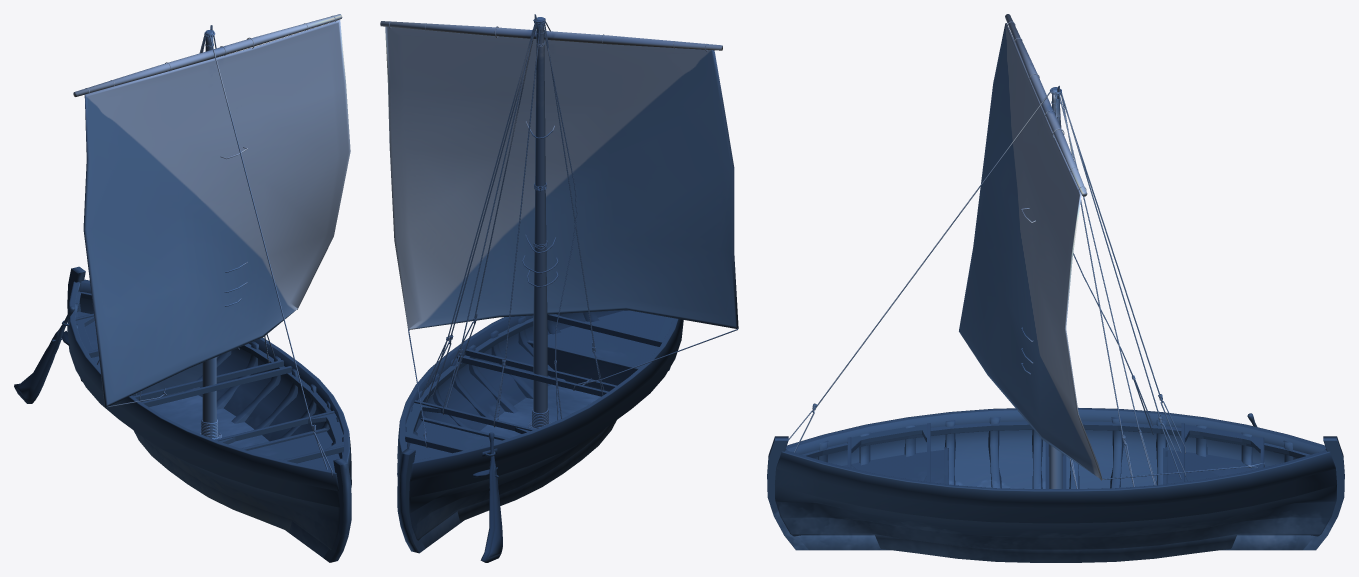
Rendered from knarr.fbx.
3 views of the same model, side by side, from view 1: azimuth 30°, elevation 25°; view 2: azimuth 150°, elevation 25°; view 3: azimuth 270°, elevation 25° (orthographic). The views are drawn at different scales.
Parts seen in each view (by area): view 1: Cylinder.000, Plane.002, Cylinder.010; view 2: Cylinder.000, Plane.002, Cylinder.010; view 3: Plane.002, Cylinder.000, Cylinder.010.
Part boxes in pixels (x1=…): Cylinder.000: x1=83, y1=20, x2=350, y2=407; Plane.002: x1=14, y1=266, x2=351, y2=562; Cylinder.010: x1=73, y1=14, x2=342, y2=477; Cylinder.000: x1=385, y1=26, x2=738, y2=329; Plane.002: x1=397, y1=310, x2=683, y2=562; Cylinder.010: x1=380, y1=14, x2=737, y2=447; Plane.002: x1=767, y1=407, x2=1344, y2=562; Cylinder.000: x1=959, y1=23, x2=1102, y2=480; Cylinder.010: x1=788, y1=14, x2=1264, y2=488.
Size of the model in its own units: 269 by 375 by 423.
2 materials, 2 textured.
